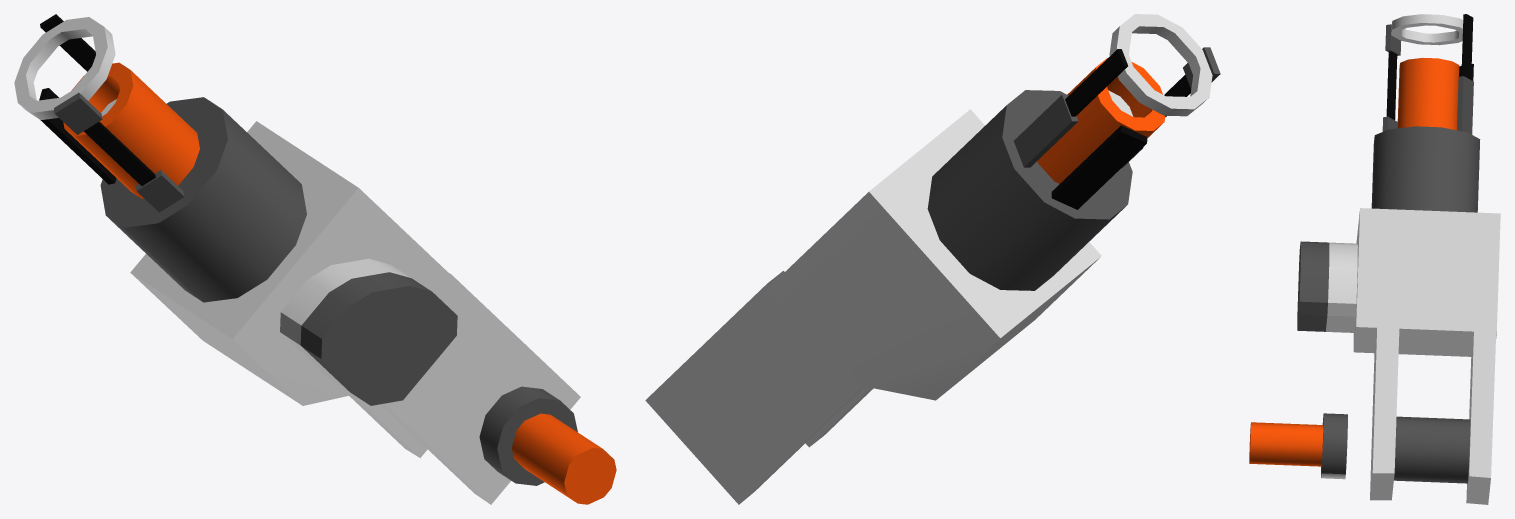
Rendered from Pinza.obj.
3 renders of one model, left to right at view 1: azimuth 30°, elevation 25°; view 2: azimuth 150°, elevation 25°; view 3: azimuth 270°, elevation 25°, orthographic. The views are drawn at different scales.
Parts seen in each view (by area): view 1: Pinza_SpacialRoverExploreralumWhite, Pinza_SpacialRoverExploreralumGray, Pinza_SpacialRoverExploreralumOrange, Pinza_SpacialRoverExploreralumBlack; view 2: Pinza_SpacialRoverExploreralumWhite, Pinza_SpacialRoverExploreralumGray, Pinza_SpacialRoverExploreralumBlack, Pinza_SpacialRoverExploreralumOrange; view 3: Pinza_SpacialRoverExploreralumWhite, Pinza_SpacialRoverExploreralumGray, Pinza_SpacialRoverExploreralumOrange, Pinza_SpacialRoverExploreralumBlack.
Boxes of the visible parts, <box> form: Pinza_SpacialRoverExploreralumWhite: <box>14,17,580,504</box>; Pinza_SpacialRoverExploreralumGray: <box>54,92,577,485</box>; Pinza_SpacialRoverExploreralumOrange: <box>63,62,616,504</box>; Pinza_SpacialRoverExploreralumBlack: <box>39,14,155,185</box>; Pinza_SpacialRoverExploreralumWhite: <box>645,14,1212,504</box>; Pinza_SpacialRoverExploreralumGray: <box>927,47,1220,290</box>; Pinza_SpacialRoverExploreralumBlack: <box>1051,49,1190,209</box>; Pinza_SpacialRoverExploreralumOrange: <box>1037,58,1165,183</box>; Pinza_SpacialRoverExploreralumWhite: <box>1321,14,1500,504</box>; Pinza_SpacialRoverExploreralumGray: <box>1297,24,1480,483</box>; Pinza_SpacialRoverExploreralumOrange: <box>1249,58,1459,466</box>; Pinza_SpacialRoverExploreralumBlack: <box>1386,14,1473,119</box>.
Size of the model in its own units: 1.13 by 1.14 by 0.6961.
